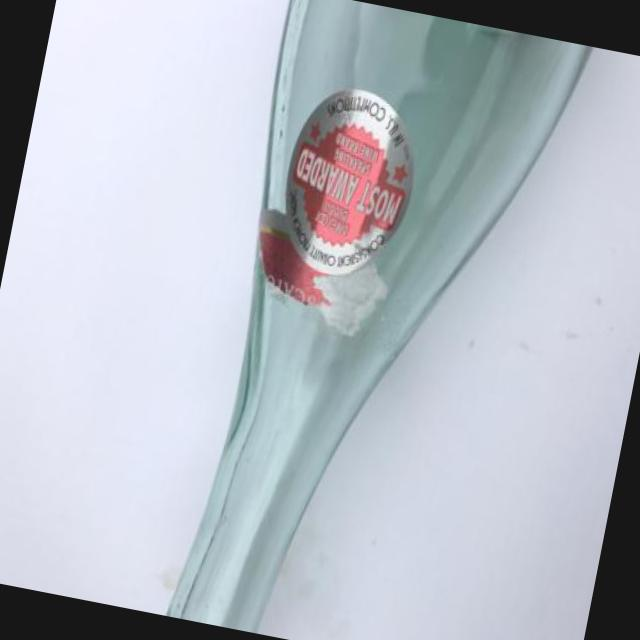bottle: (169, 0, 590, 632)
